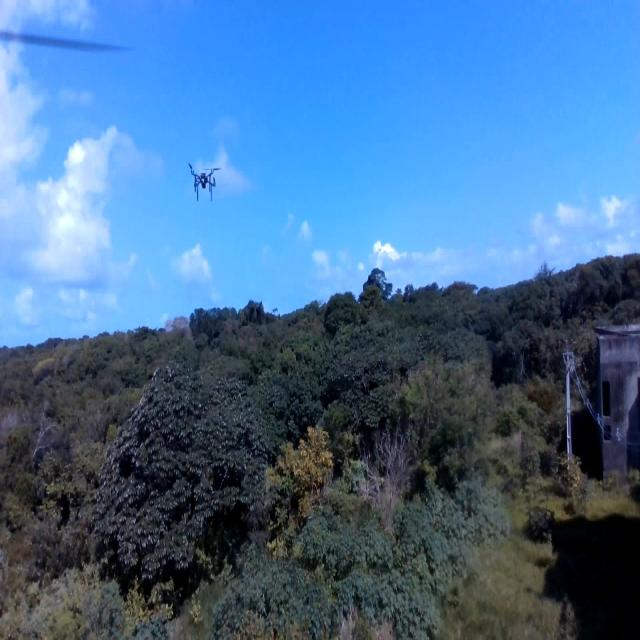-uav-: (182, 149, 227, 211)
